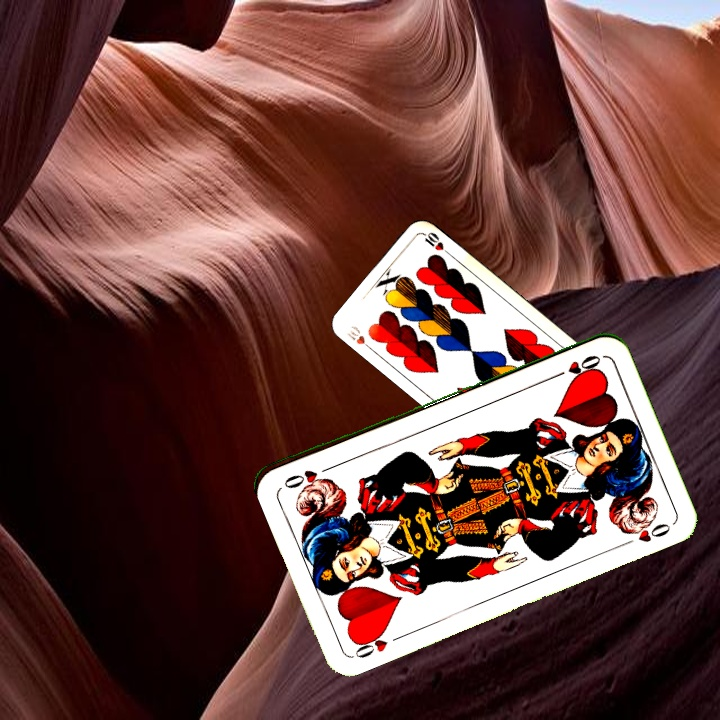H10: (343, 321, 376, 354)
HO: (548, 351, 604, 382), (349, 625, 391, 661)
